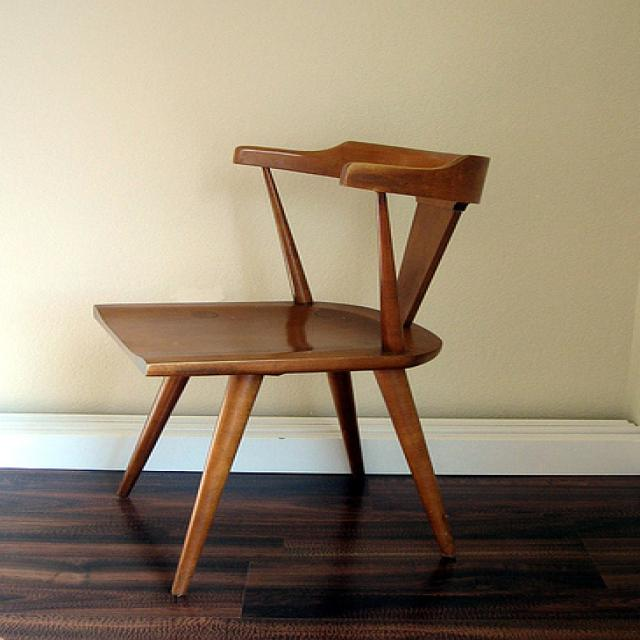chair: (90, 137, 493, 602)
